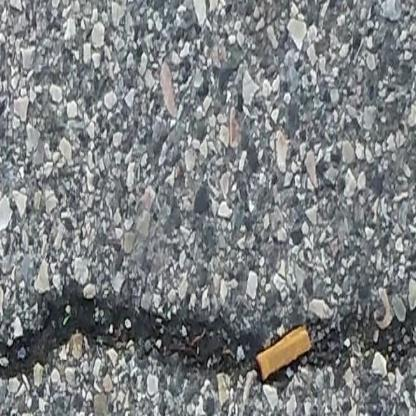Cracks: (0, 283, 416, 396)
